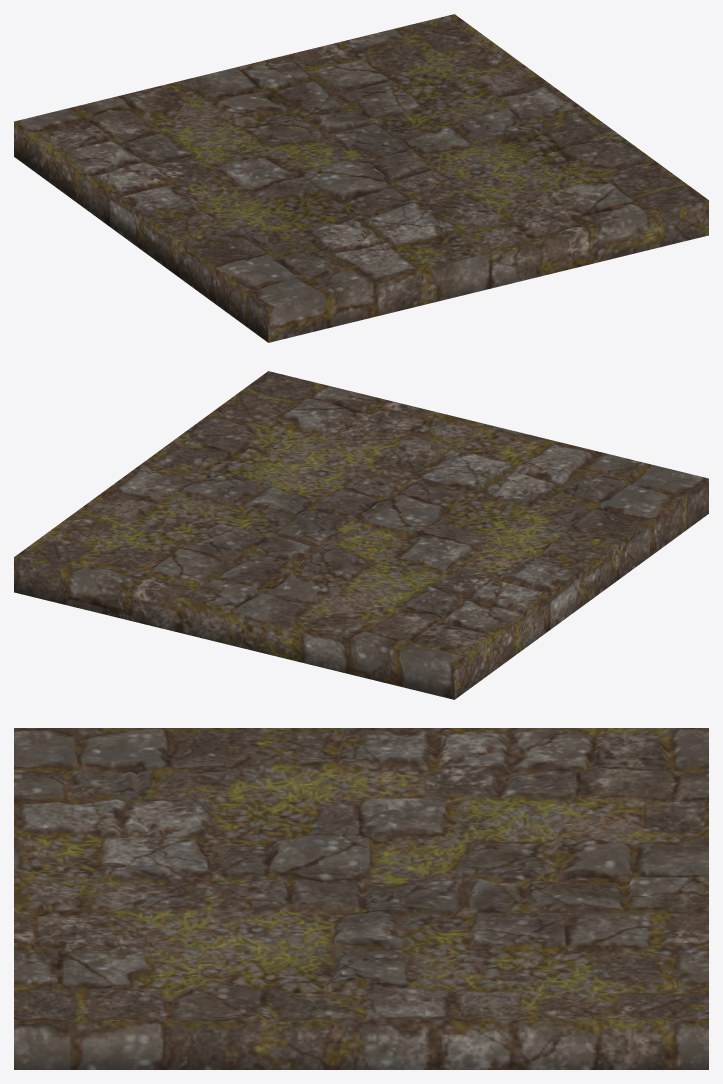
Rendered from SM_Modular_Floor_01b.gltf.
3 views of the same model, one above another, from view 1: azimuth 30°, elevation 25°; view 2: azimuth 150°, elevation 25°; view 3: azimuth 270°, elevation 25° (orthographic). The views are drawn at different scales.
Visible parts, largest first — view 1: SM_Modular_Floor_01b; view 2: SM_Modular_Floor_01b; view 3: SM_Modular_Floor_01b.
Boxes of the visible parts, bbox=[...] form: SM_Modular_Floor_01b: bbox=[14, 14, 708, 342]; SM_Modular_Floor_01b: bbox=[14, 371, 708, 699]; SM_Modular_Floor_01b: bbox=[14, 728, 708, 1069].
Bounding box in the file's own units: 7 × 0.5612 × 7.
Materials: 1 (1 with a texture image).
